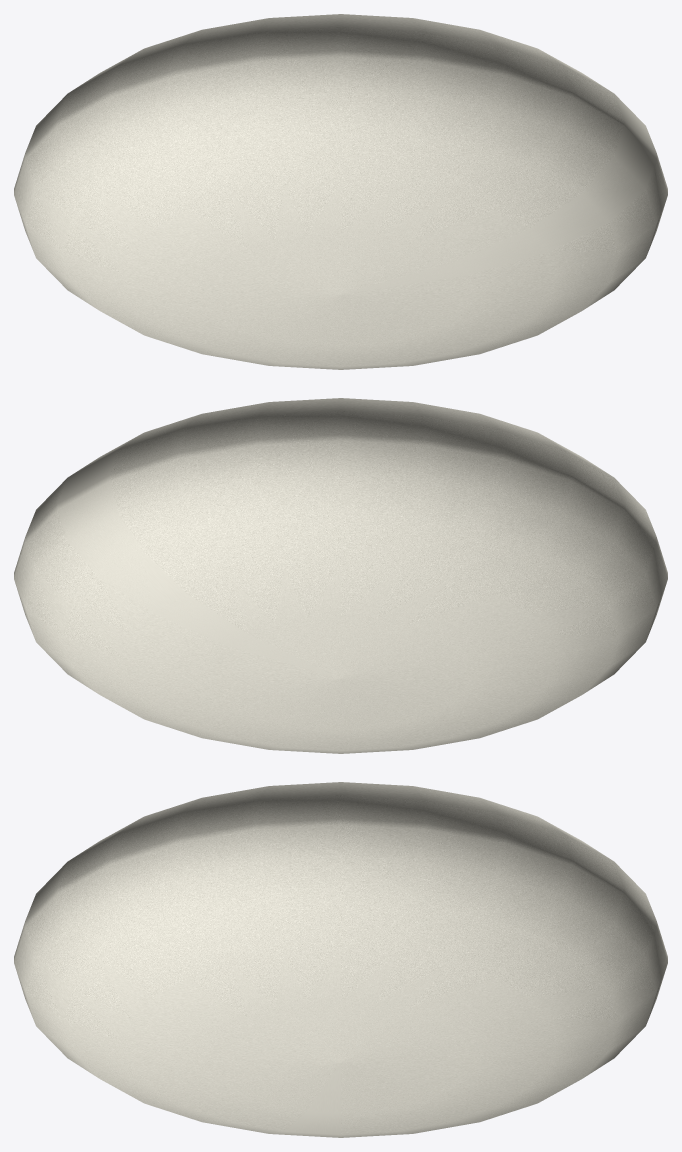
Rendered from WhiteStone_Gameplay.glb.
3 renders of one model, top to bottom at view 1: azimuth 30°, elevation 25°; view 2: azimuth 150°, elevation 25°; view 3: azimuth 270°, elevation 25°, orthographic.
Parts seen in each view (by area): view 1: WhiteStone_Gameplay; view 2: WhiteStone_Gameplay; view 3: WhiteStone_Gameplay.
Part boxes in pixels (x1=…): WhiteStone_Gameplay: x1=14, y1=14, x2=667, y2=369; WhiteStone_Gameplay: x1=14, y1=398, x2=667, y2=753; WhiteStone_Gameplay: x1=14, y1=782, x2=667, y2=1137.
Bounding box in the file's own units: 0.0548 × 0.019 × 0.0548.
1 material, 1 textured.
